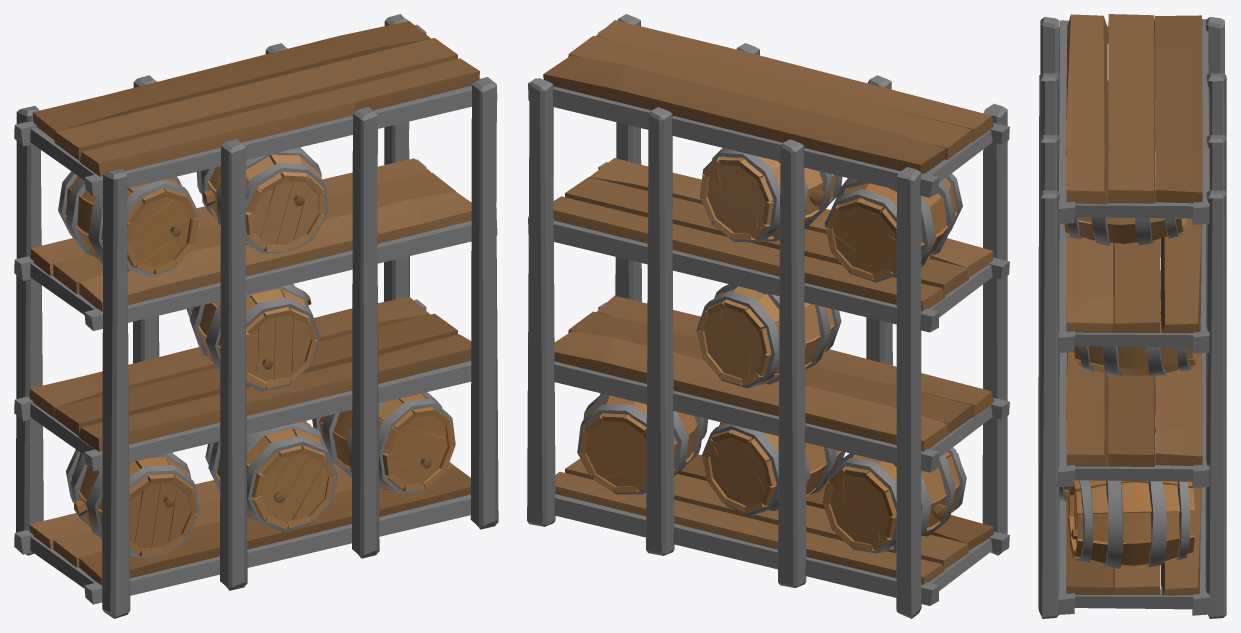
The model's file is Barrel_Cabinet_B.fbx.
3 renders of one model, left to right at view 1: azimuth 30°, elevation 25°; view 2: azimuth 150°, elevation 25°; view 3: azimuth 270°, elevation 25°, orthographic. The views are drawn at different scales.
Visible parts, largest first — view 1: Barrel_Cabinet_B; view 2: Barrel_Cabinet_B; view 3: Barrel_Cabinet_B.
Boxes of the visible parts, bbox=[...] form: Barrel_Cabinet_B: bbox=[14, 14, 498, 618]; Barrel_Cabinet_B: bbox=[527, 14, 1009, 618]; Barrel_Cabinet_B: bbox=[1038, 14, 1226, 618].
Bounding box in the file's own units: 321 × 341 × 135.
